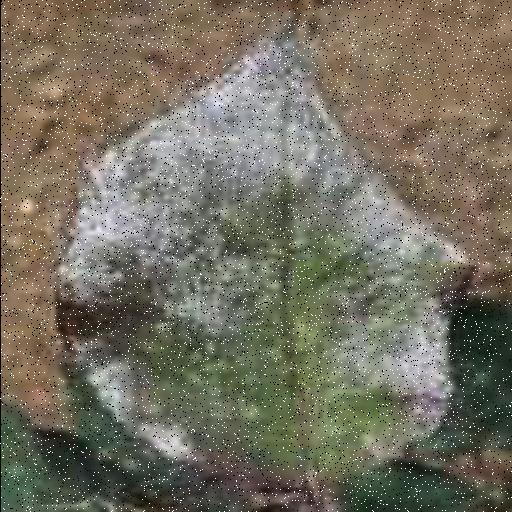powdery_mildew: (58, 36, 465, 501)
